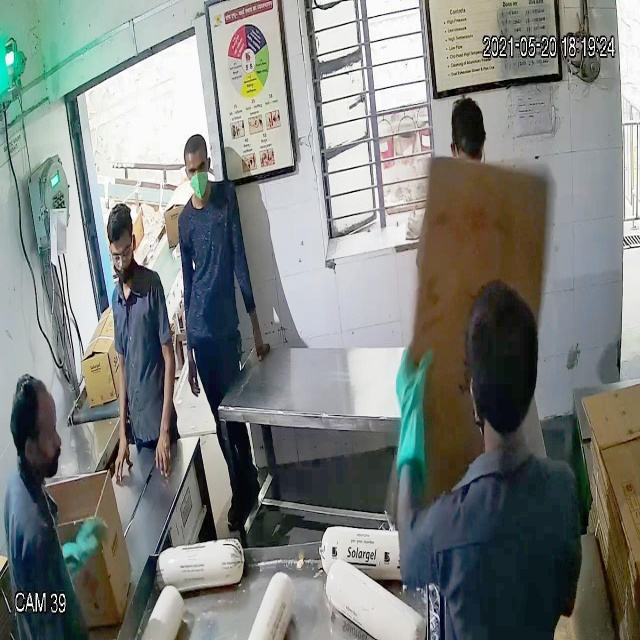Gafas: (104, 237, 137, 271)
Sin_gafas: (179, 156, 214, 183)
